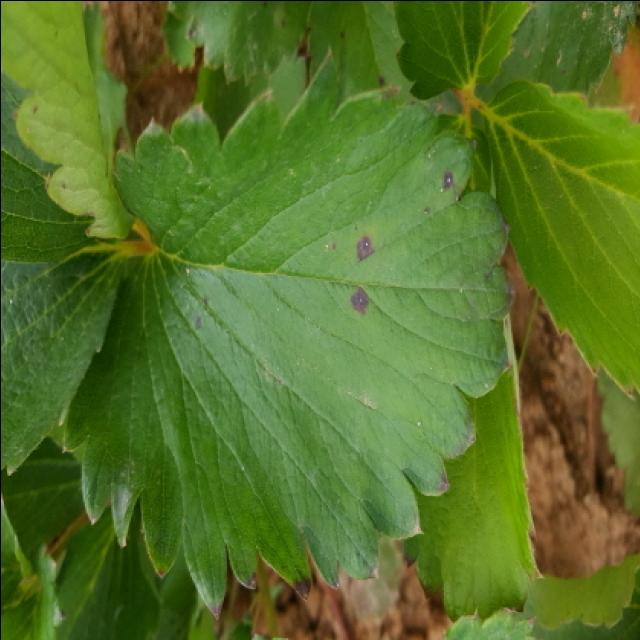Leaf Spot: (58, 42, 517, 622), (304, 2, 415, 109)
